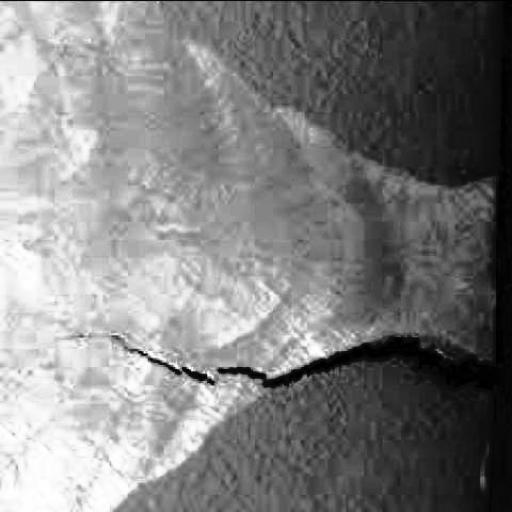crack: (219, 337, 496, 389), (109, 334, 215, 384)
